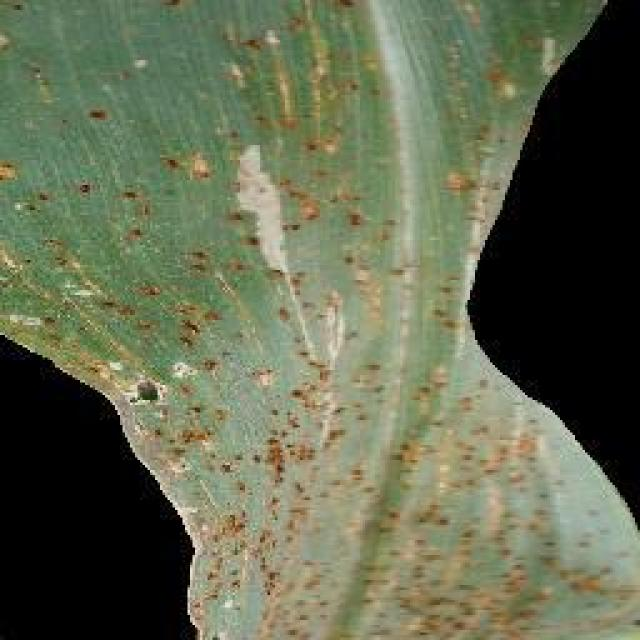Corn Common Rust: (158, 144, 498, 604)
